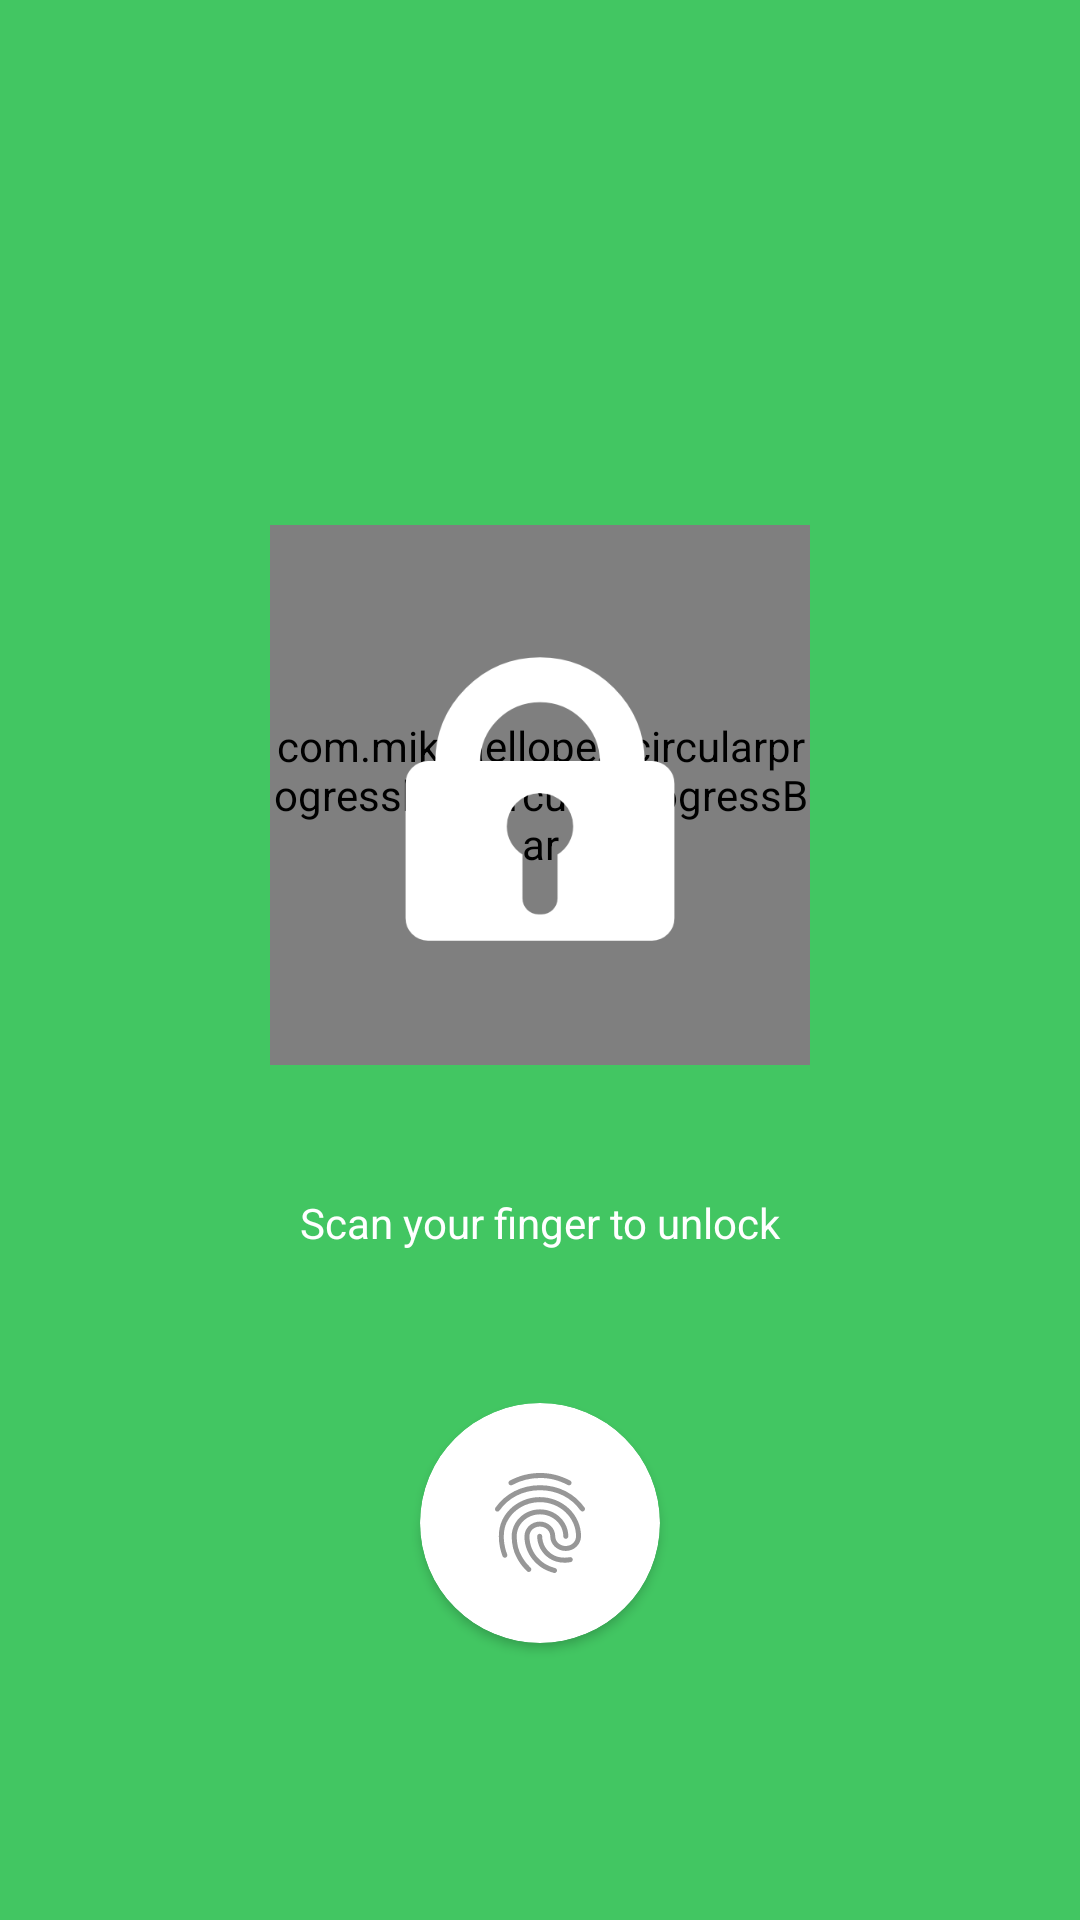

Icons on this 1080w x 1920h Android screen, each with its box as (x1, y1, x2, y2):
fingerprint: (420, 1403, 660, 1643)
